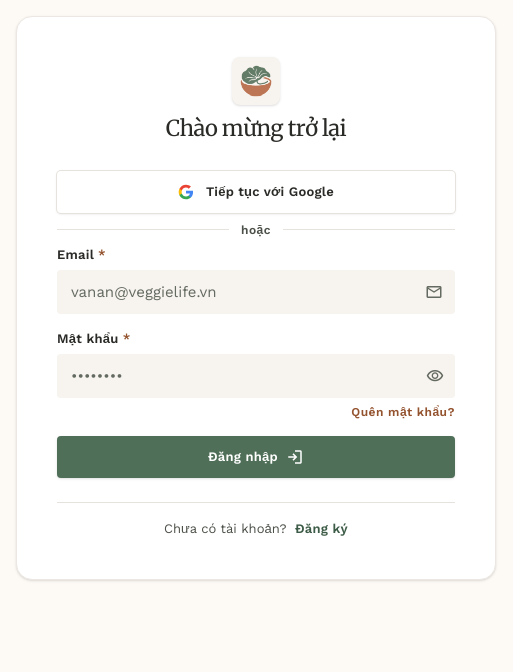
Test: LoginPage (SCR-01) › báo lỗi dưới từng trường khi dữ liệu sai và không gọi API
Type "abc" into the field labelled "Email *" at [256, 292], box [57, 270, 455, 314]
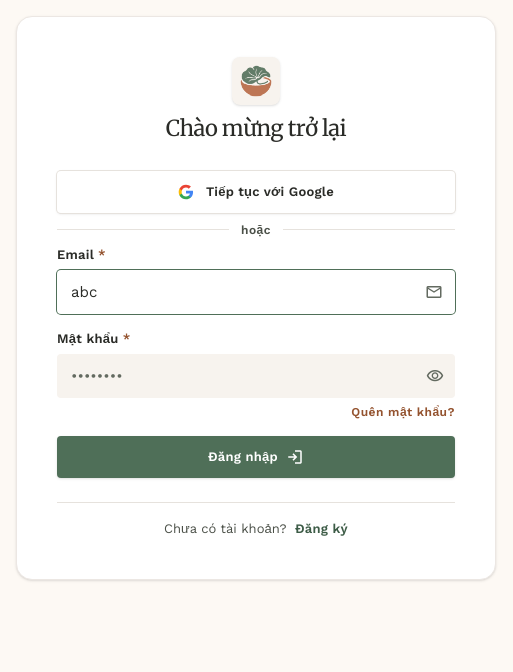
Click the button "Đăng nhập" at [256, 457], box [57, 436, 455, 478]
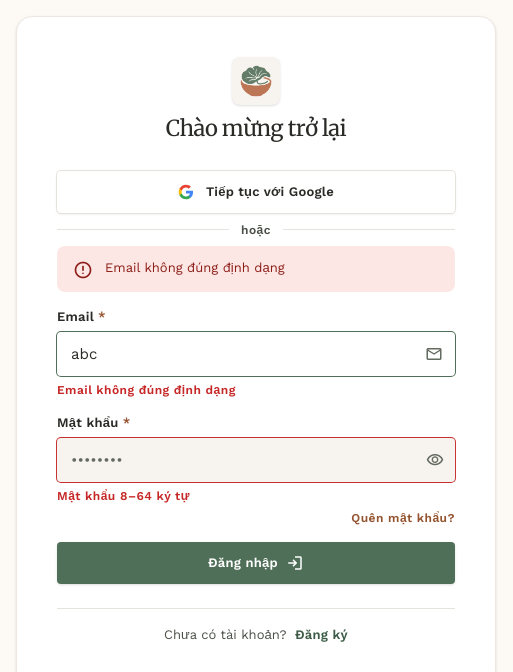
Expected: the text "Email không đúng định dạng" is shown, [105, 260, 285, 275]
